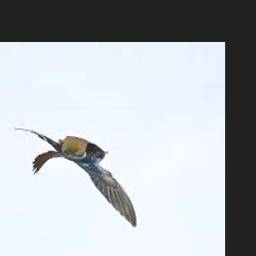Swallow: (14, 126, 137, 229)
